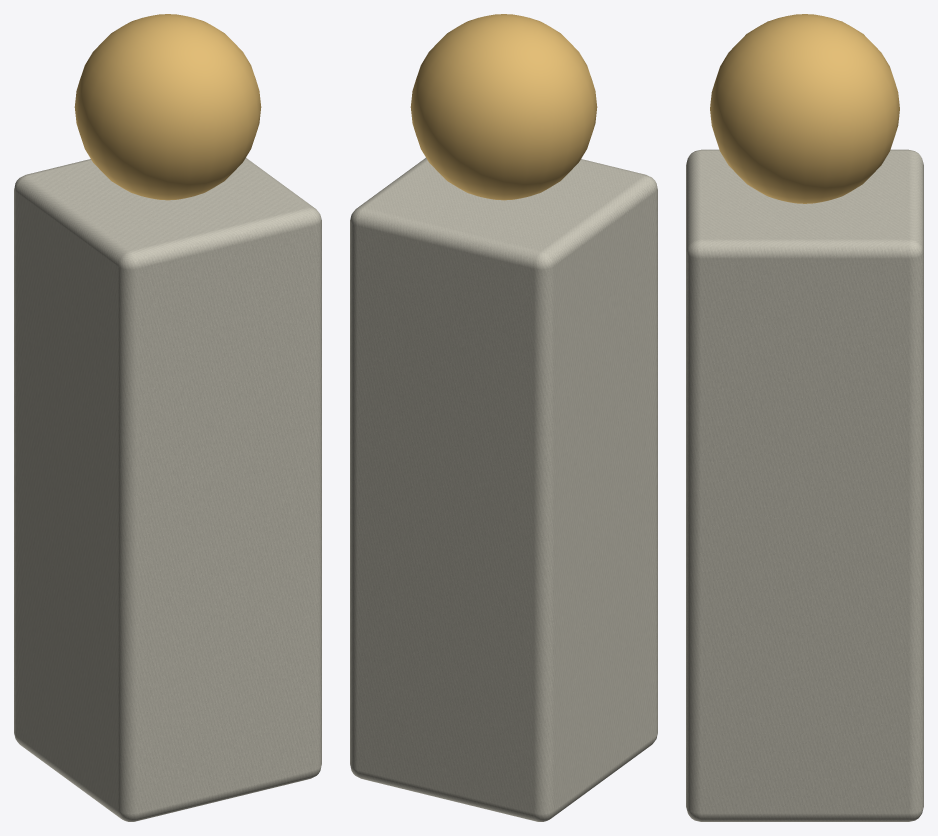
The model's file is arcane-academy-and-spell-trials-balustrade-end-3cece7fa__28285.glb.
3 renders of one model, left to right at view 1: azimuth 30°, elevation 25°; view 2: azimuth 150°, elevation 25°; view 3: azimuth 270°, elevation 25°, orthographic.
Parts seen in each view (by area): view 1: balustrade-end; view 2: balustrade-end; view 3: balustrade-end.
Part boxes in pixels (x1,y1,x2,y2): balustrade-end: (14,14,321,821); balustrade-end: (350,14,657,821); balustrade-end: (686,14,923,821).
Bounding box in the file's own units: 0.4 × 1.4 × 0.4.
Materials: 2 (1 with a texture image).
